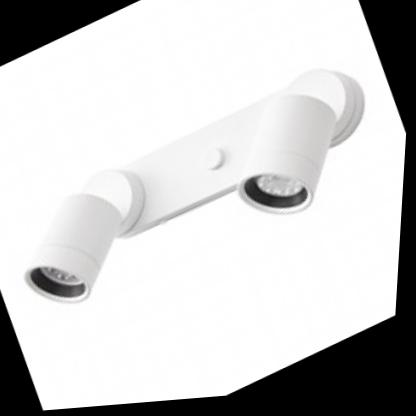Lamp: (0, 0, 416, 386)
